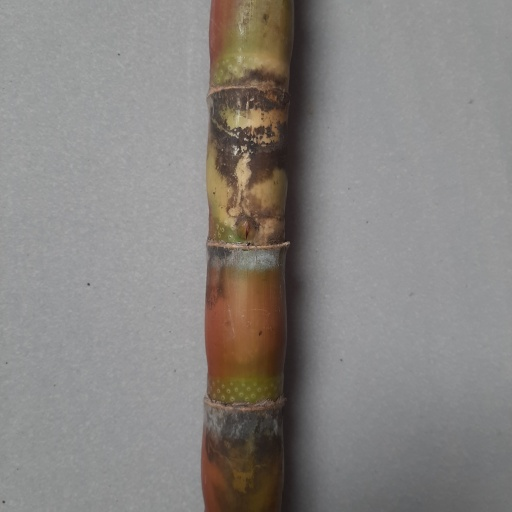Bud: (233, 215, 258, 244)
